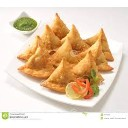samosa: (15, 36, 56, 75), (43, 58, 77, 90), (81, 39, 114, 70), (88, 26, 116, 60), (44, 11, 66, 49), (78, 53, 104, 81), (55, 37, 79, 66), (64, 23, 88, 49)
